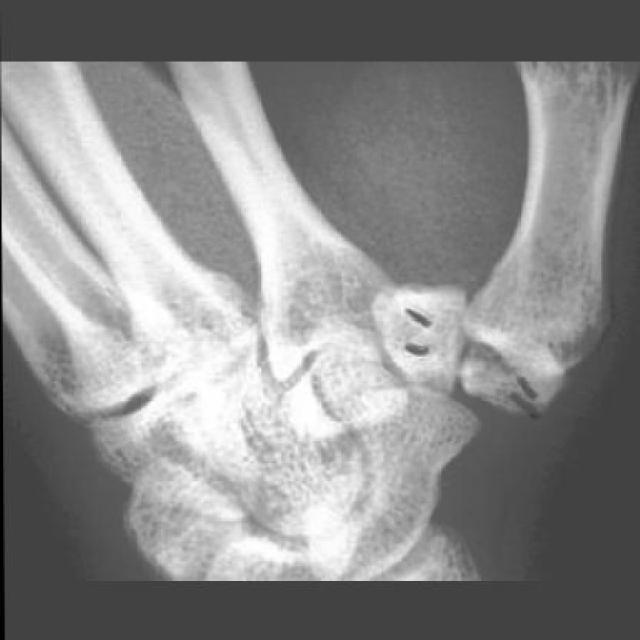Fracture: (402, 288, 543, 421)
